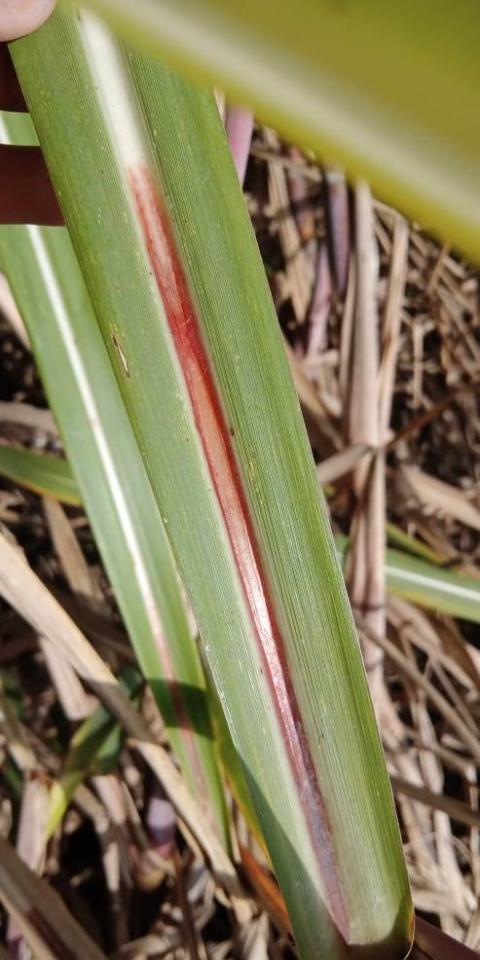RedRot: (122, 158, 354, 959), (154, 631, 211, 803)
